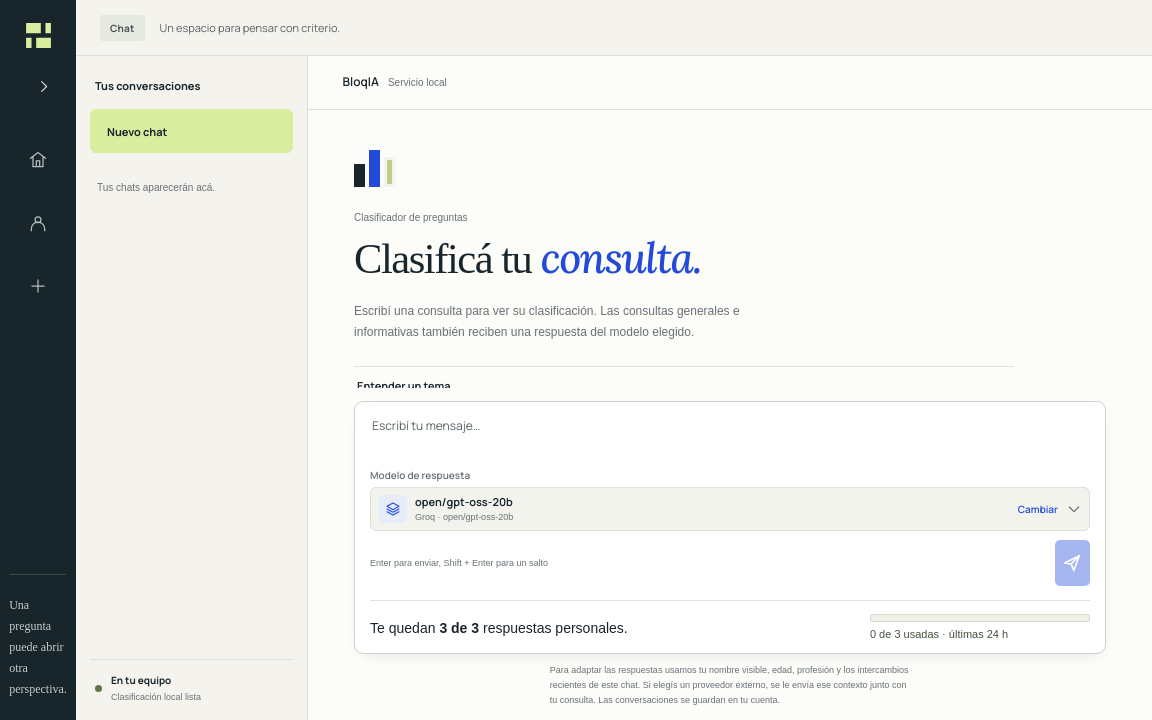
Test: prefers Groq gpt-oss-20b when available and filters the searchable model list
Click the dropdown named "Modelo de respuesta" at [464, 501], box [370,487,1090,531]
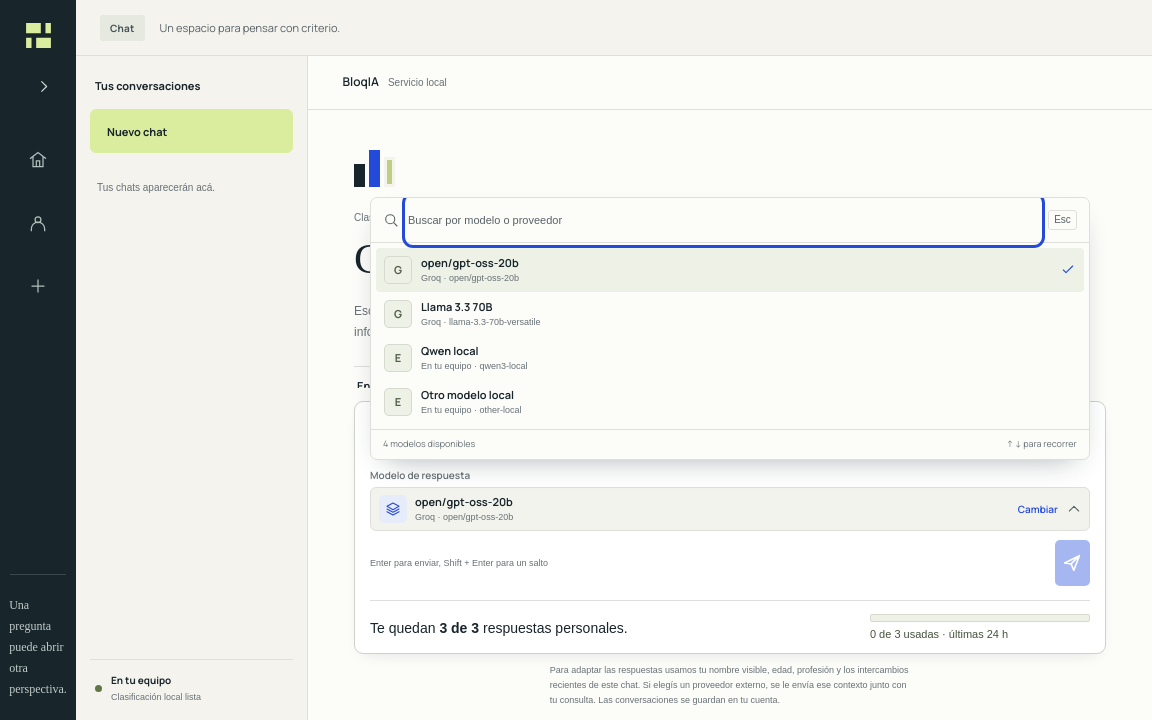
Type "gpt-oss" into the search field named "Buscar un modelo" at [724, 220], box [408,198,1039,242]
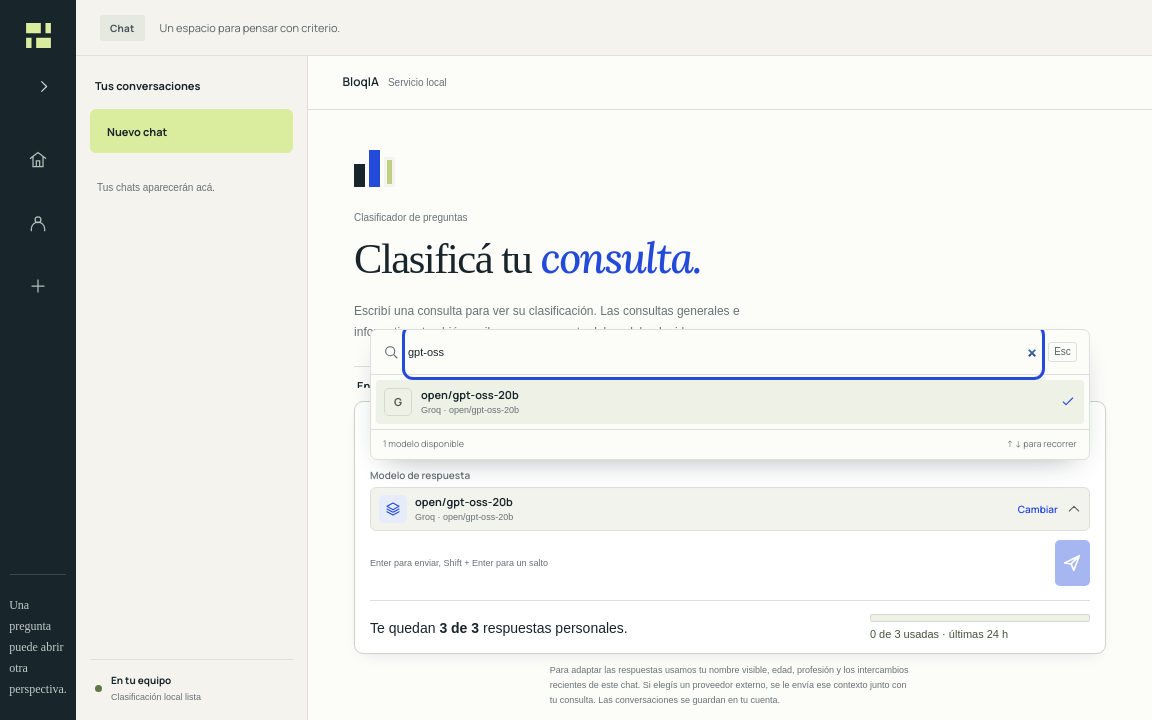
Now the option "G open/gpt-oss-20b Groq · open/gpt-oss-20b" is shown, box [376,380,1084,424]
Now the option "Llama 3.3 70B" is gone
